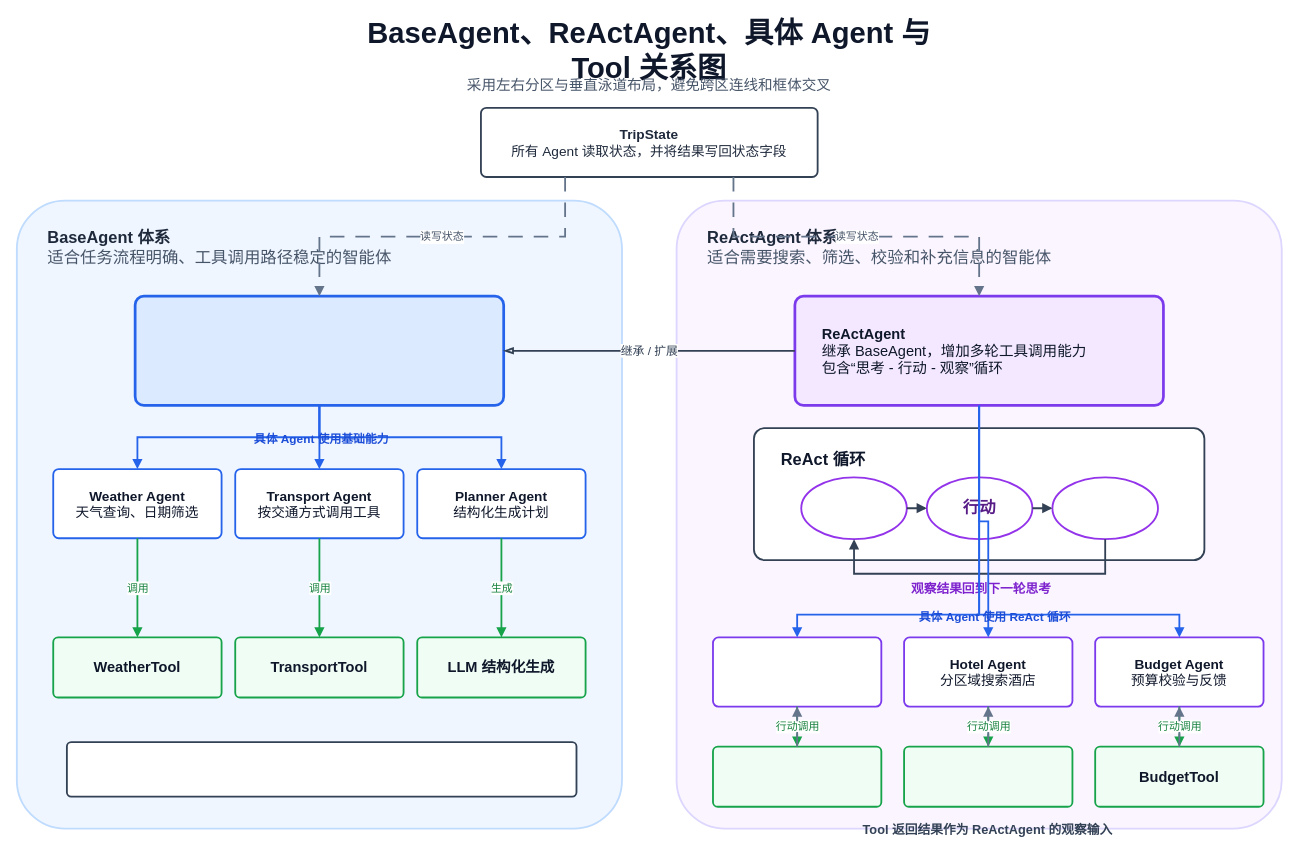
Some shapes in this 1298 by 857 pixel diagram are drawn without their labels. The shapes that lost their labels are listed below. From the top down, each one's centre as x and y in pixels, then its label:
point (319, 350): BaseAgent 基础模型调用、状态读取、结果写入 最小智能体基类
point (853, 508): 思考
point (1104, 508): 观察
point (797, 671): POI Agent 多轮关键词搜索
point (321, 769): 图例：空心三角箭头表示继承；蓝色箭头表示具体 Agent 的类型归属；绿色箭头表示 Tool 调用；灰色虚线表示 TripState 读写或观察数据回传。
point (797, 776): POITool
point (988, 776): HotelTool
